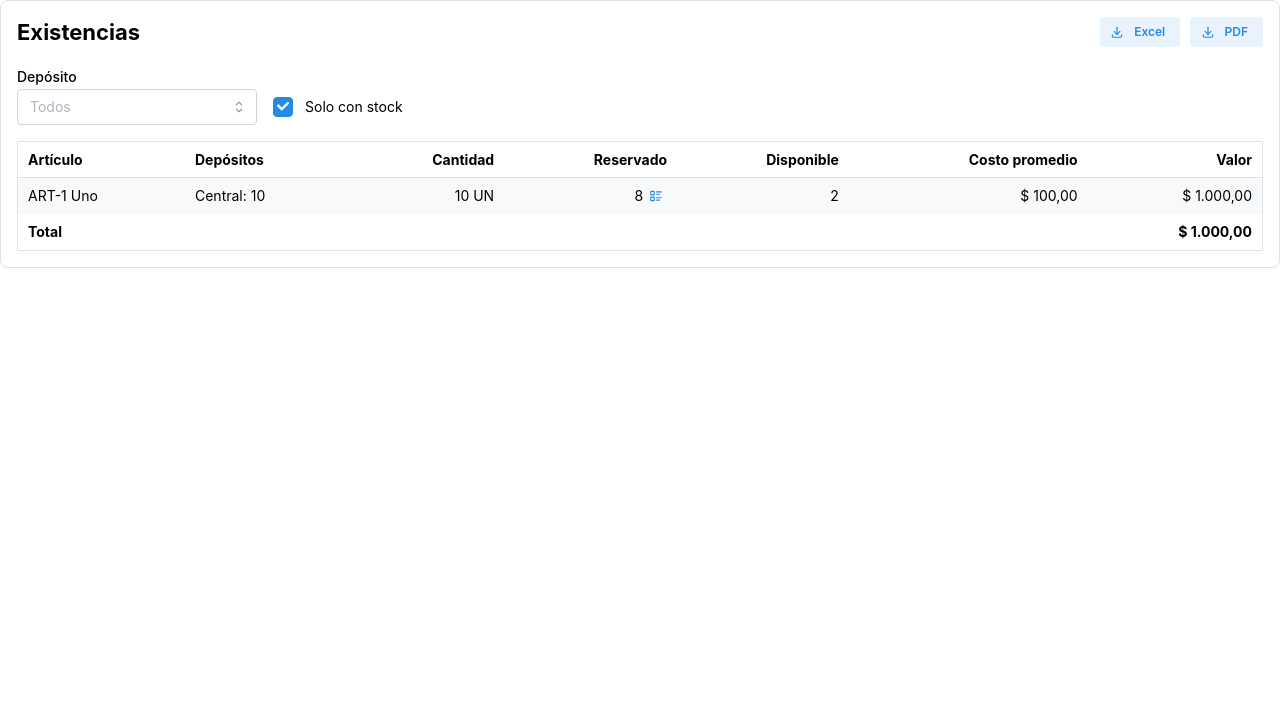
reservas de stock (web, E53) › existencias muestra reservado y disponible, y el modal lista los pedidos
Expected: the column heading "Reservado" is shown, x1=504 y1=141 x2=677 y2=178
Expected: the column heading "Disponible" is shown, x1=677 y1=141 x2=849 y2=178
Click the button named "Reservas de ART-1". click: (656, 196)
box: x1=645 y1=185 x2=667 y2=207
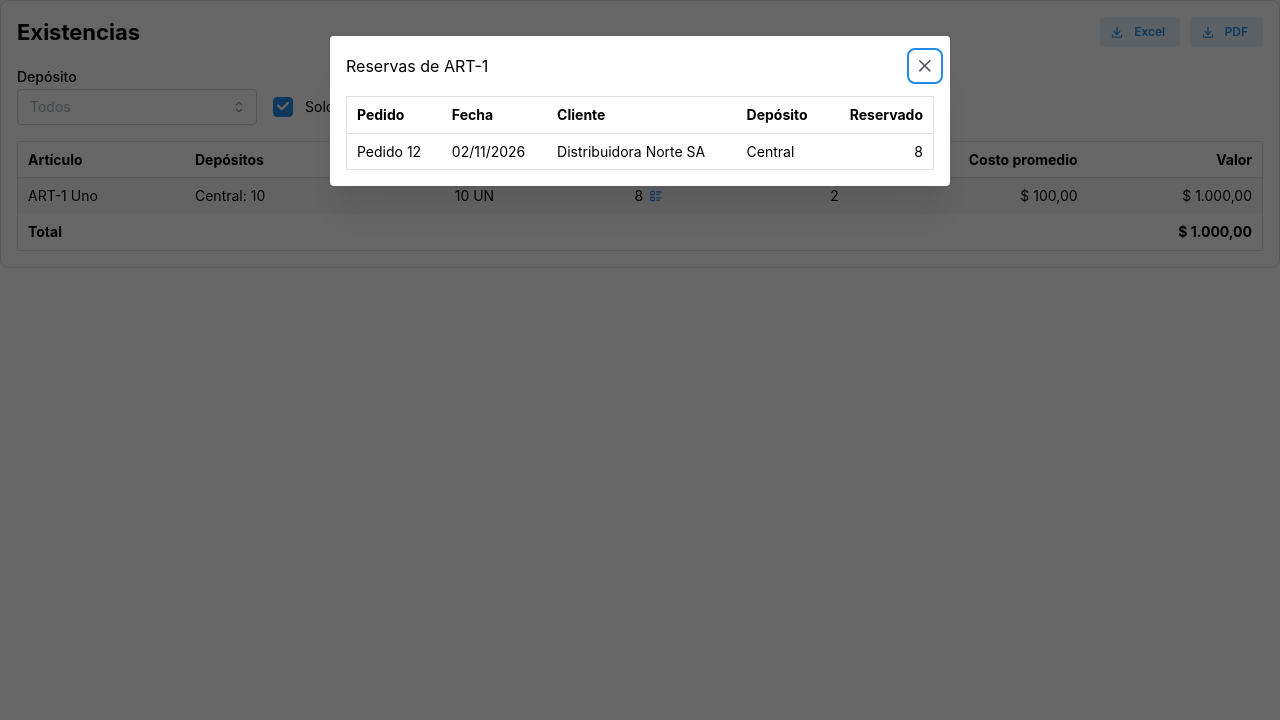
Result: the text "Distribuidora Norte SA" is shown at x1=547 y1=133 x2=736 y2=170
Result: the text "Pedido 12" is shown at x1=346 y1=133 x2=442 y2=170
